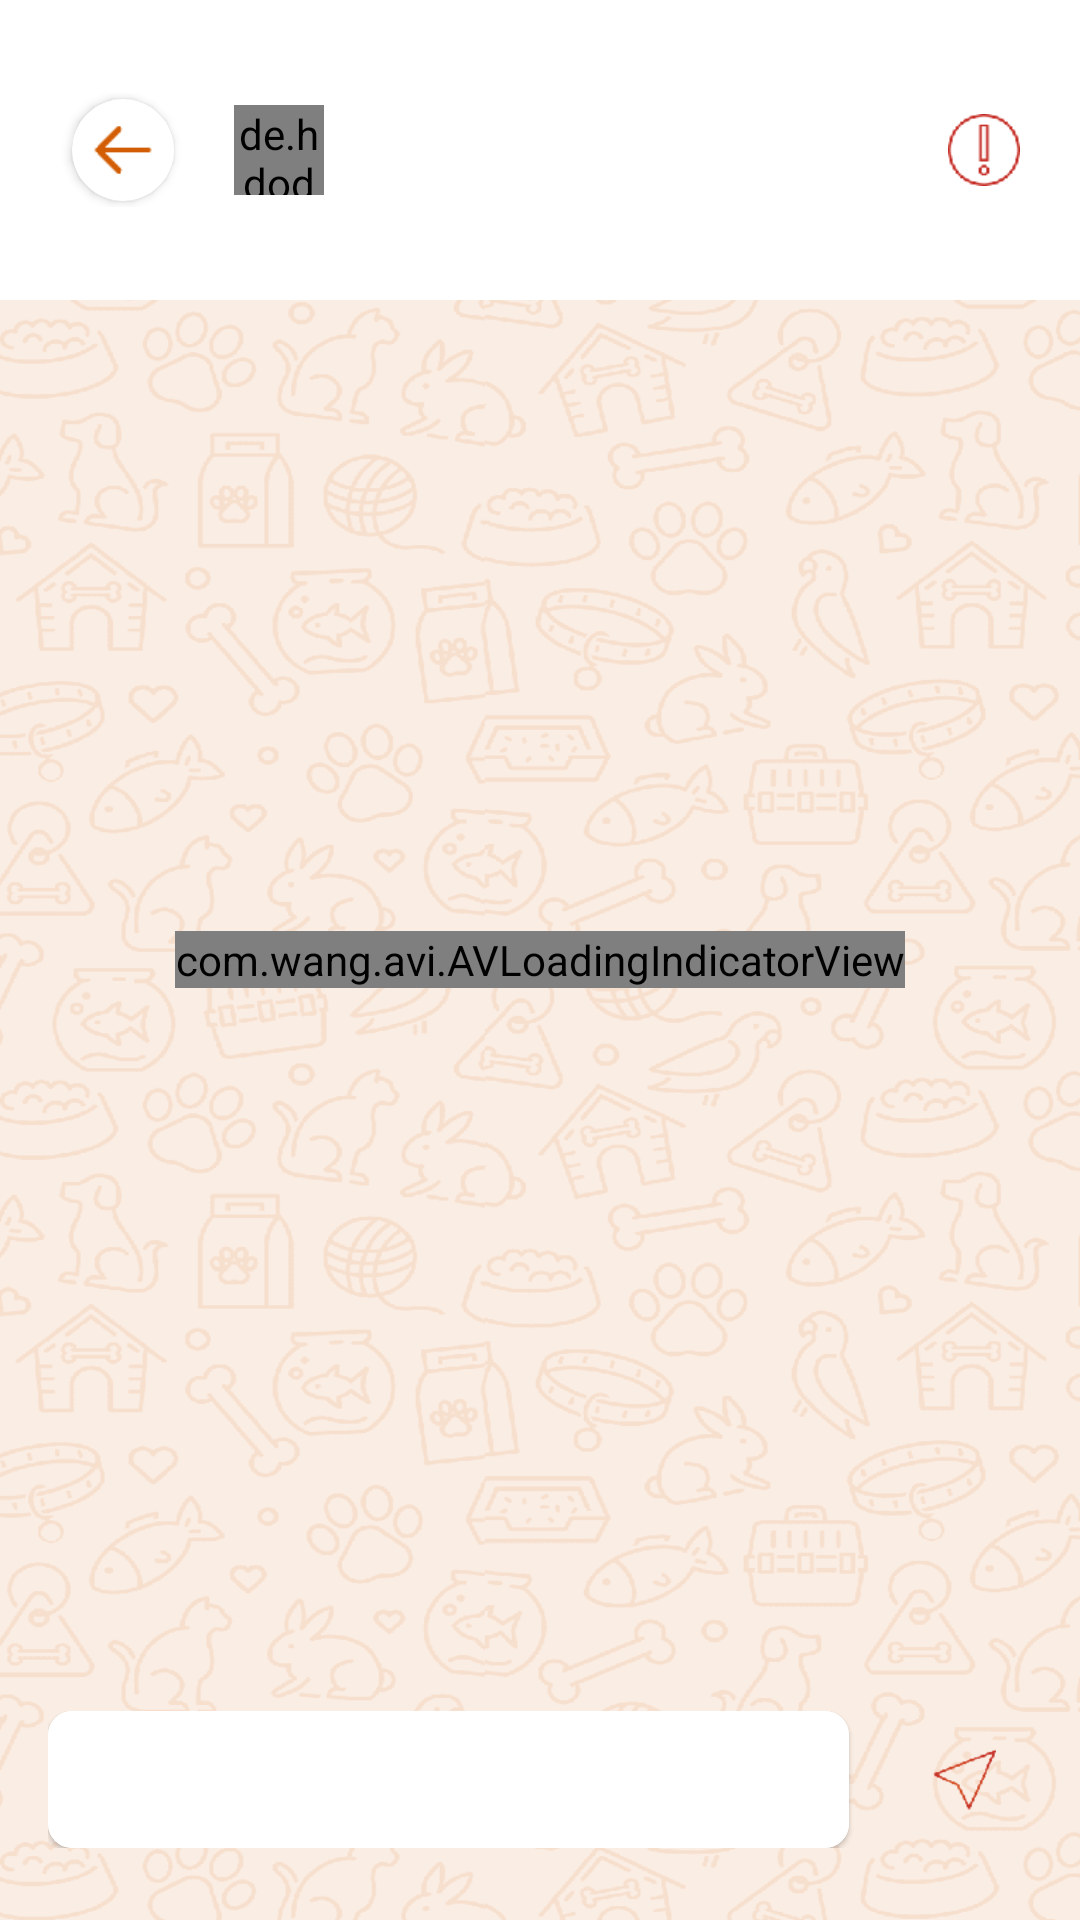

Where icons sit on this 1080px x 1920px app screen, as (x1, y1, x2, y2):
back arrow: (94, 126, 152, 174)
chat send: (933, 1750, 996, 1810)
report: (948, 114, 1020, 186)
